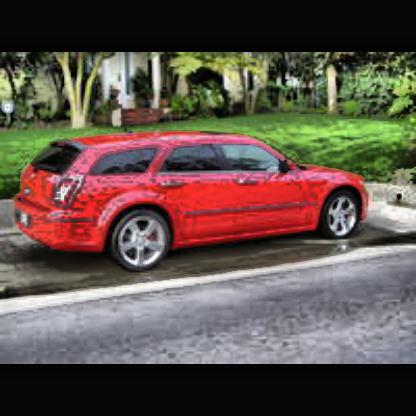Dodge Magnum Wagon 2008: (12, 130, 367, 273)
